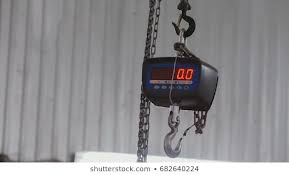Industrial Scale: (142, 1, 220, 158)
